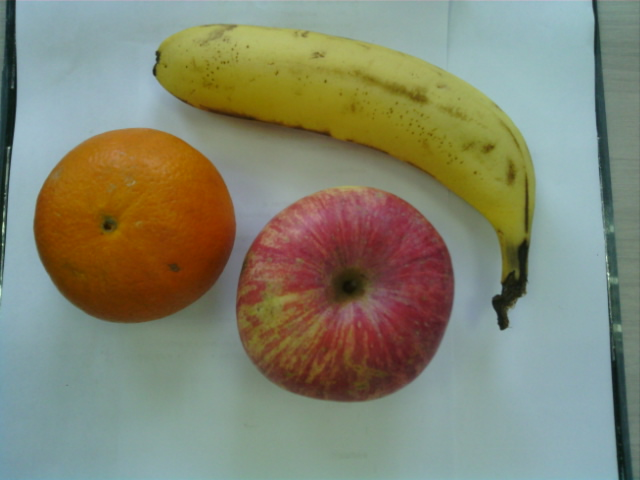normal_apple: (235, 185, 459, 405)
normal_banana: (149, 17, 540, 243)
normal_orange: (31, 125, 236, 325)
